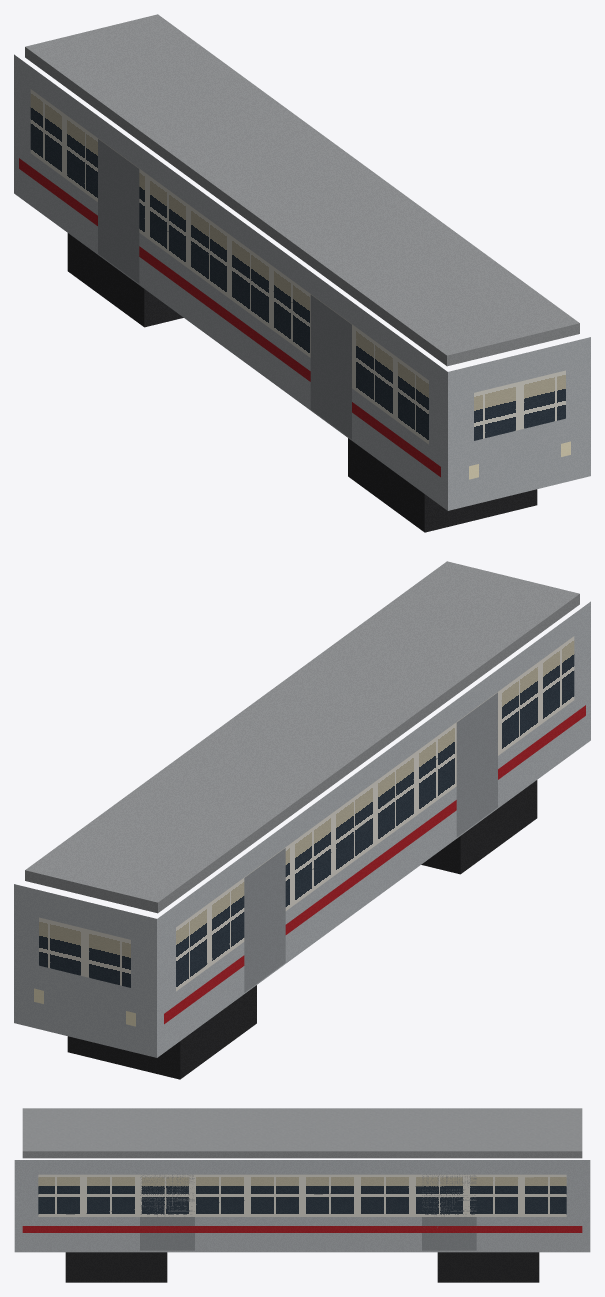
The model's file is l_car.glb.
The picture shows the model from 3 angles, top to bottom: view 1: azimuth 30°, elevation 25°; view 2: azimuth 150°, elevation 25°; view 3: azimuth 270°, elevation 25°; orthographic projection. The views are drawn at different scales.
Visible parts, largest first — view 1: l_car; view 2: l_car; view 3: l_car.
Boxes of the visible parts, box(x1,y1,x2,y2) form: l_car: box(14, 14, 590, 532); l_car: box(14, 561, 590, 1079); l_car: box(14, 1108, 590, 1282).
Size of the model in its own units: 2.85 by 3.8 by 14.74.
7 materials, 7 textured.
